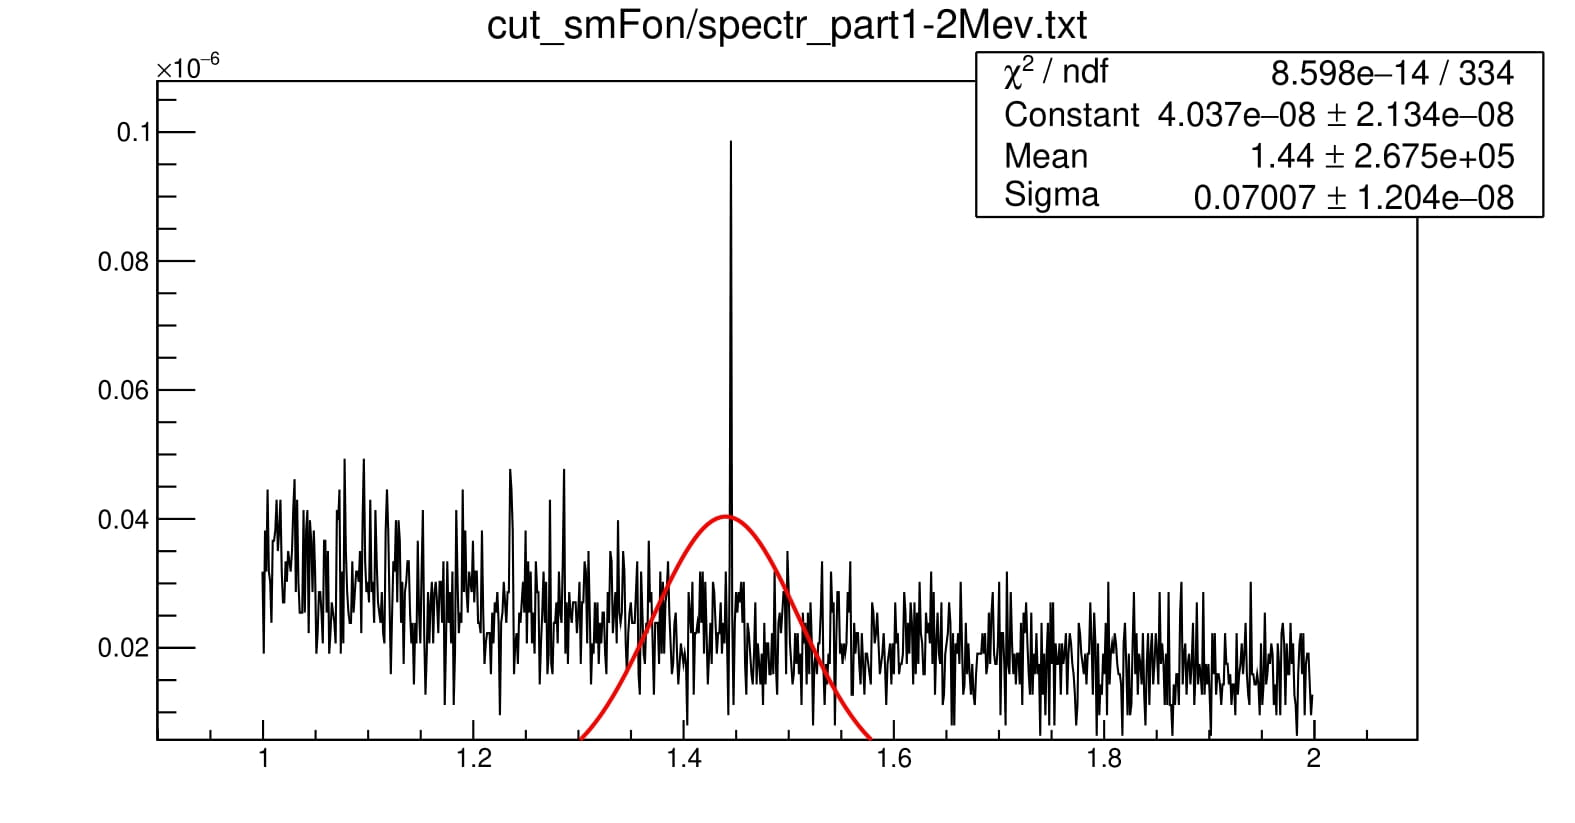gauss: (565, 118, 880, 755)
other: (909, 571, 1359, 751), (226, 478, 550, 725)
